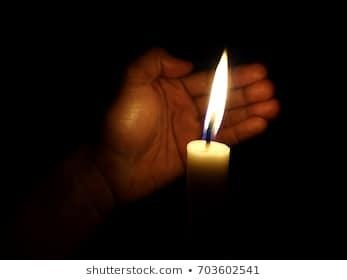fire: (199, 46, 231, 137)
